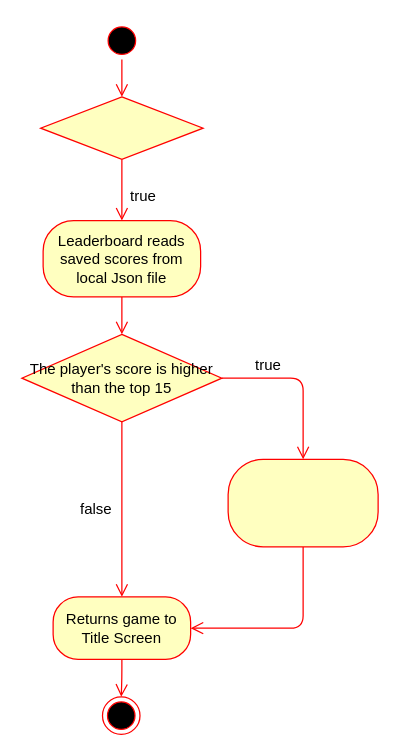
This 400x756 diagram has some shape labels left out. Here are the shapes that lost their labels. From the top down, the centre of each, then its label:
[121,127]: The player is dead
[302,502]: Saves the player score to the Json file in its proper position
